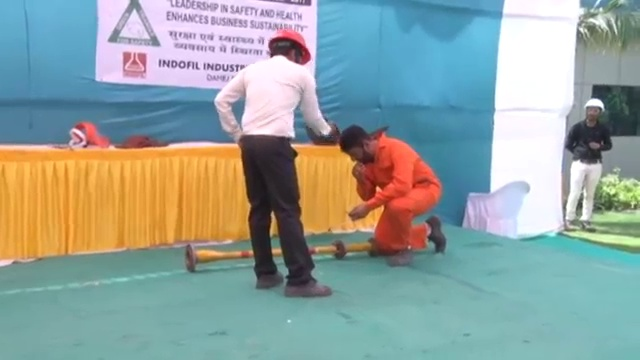helmet: (267, 27, 311, 65), (584, 97, 605, 113)
helmet_off: (339, 125, 378, 164)
helmet_on: (265, 27, 313, 73), (583, 97, 605, 127)
person: (211, 26, 339, 294), (337, 125, 447, 267), (563, 97, 614, 232)
